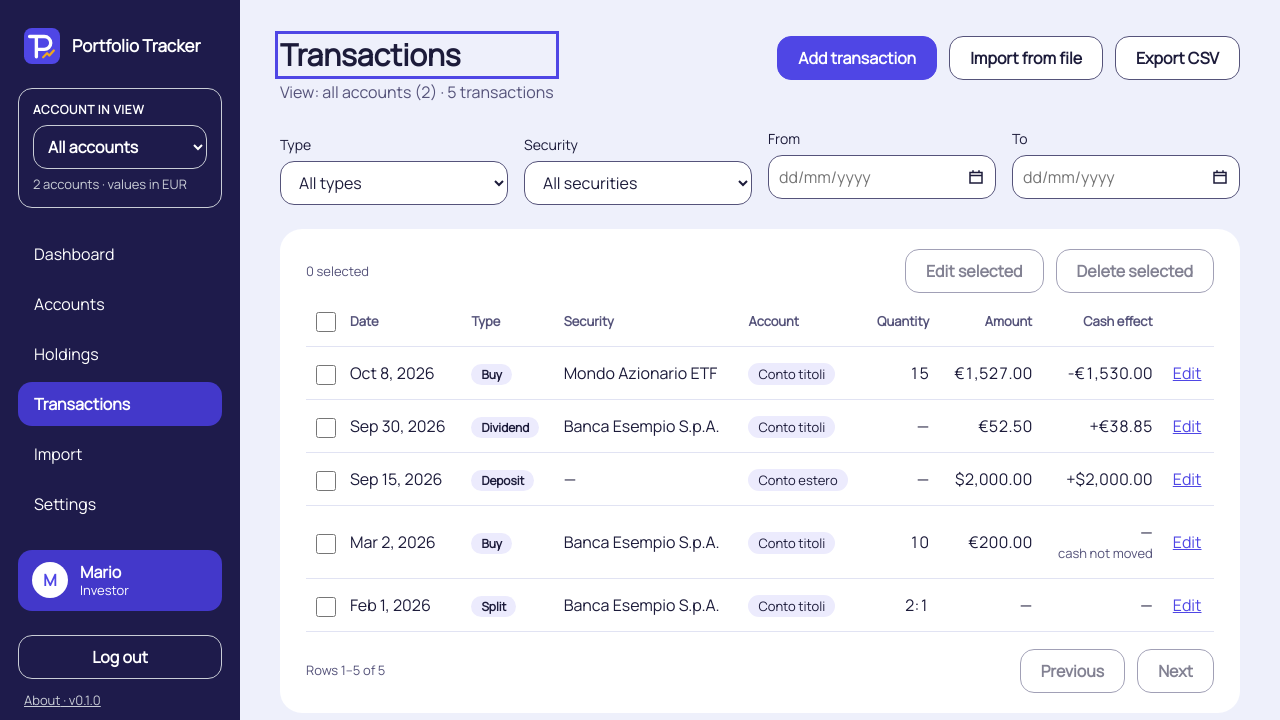
Test: transactions list › keeps the filters in the URL and asks the API with them
Expected: the text "View: all accounts (2) · 5 transactions" is shown, [280, 80, 554, 104]
Select "Buy" in the dropdown labelled "Type" at (394,182), box [280, 160, 508, 204]
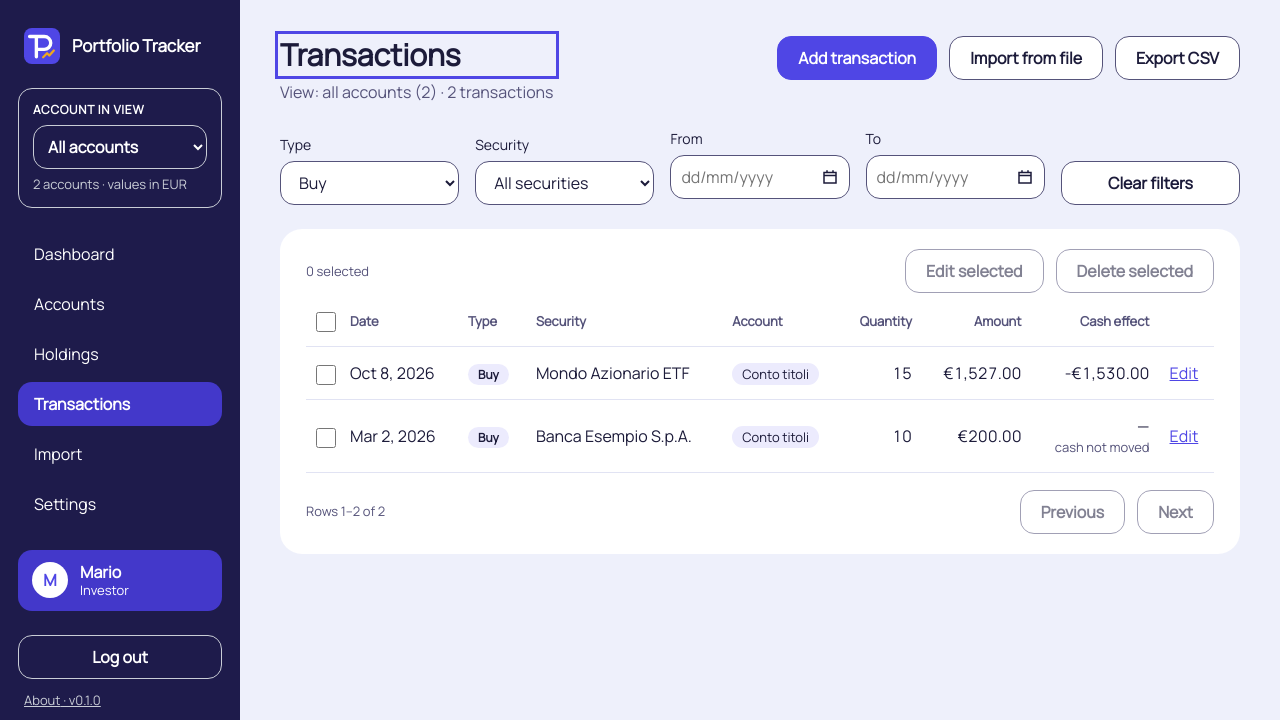
Result: the text "View: all accounts (2) · 2 transactions" is shown at [280, 80, 554, 104]
Select "Banca Esempio S.p.A." in the dropdown labelled "Security" at (565,182), box [475, 160, 654, 204]
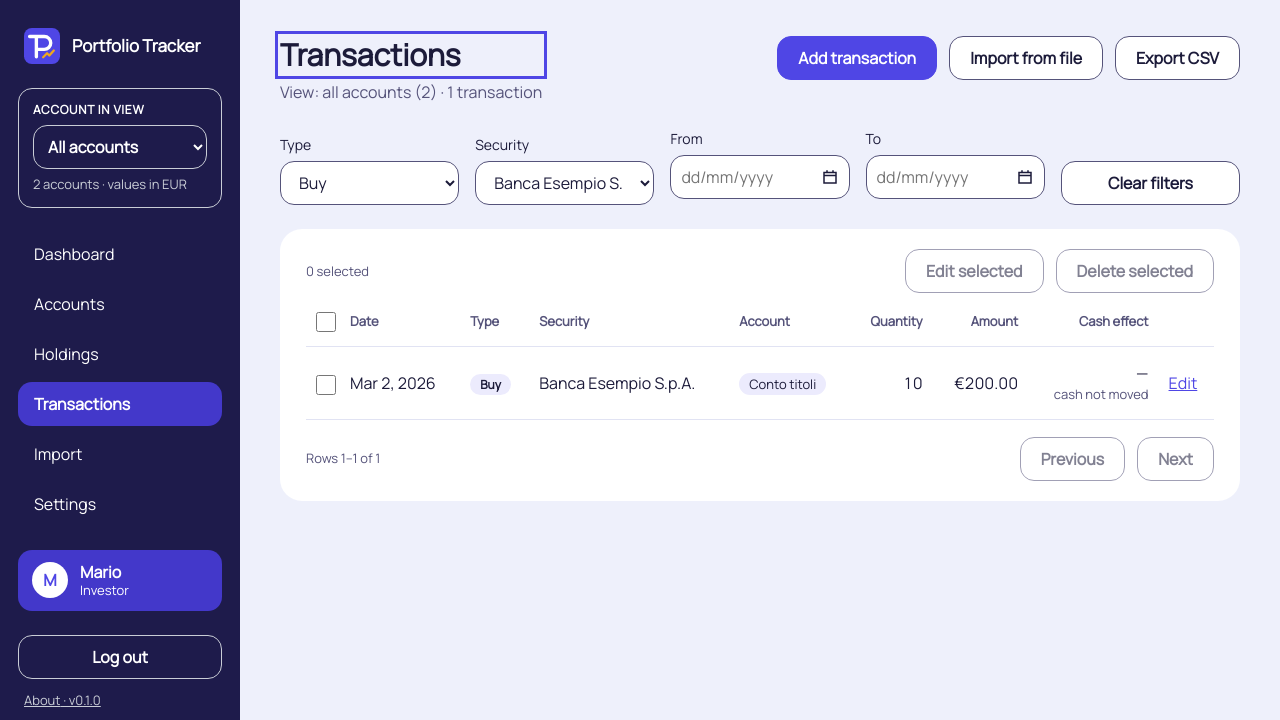
Result: the text "View: all accounts (2) · 1 transaction" is shown at [280, 80, 542, 104]
Type "01/01/2026" into the field labelled "From".
click(760, 176); type("01/01/2026")  # box [670, 154, 850, 198]
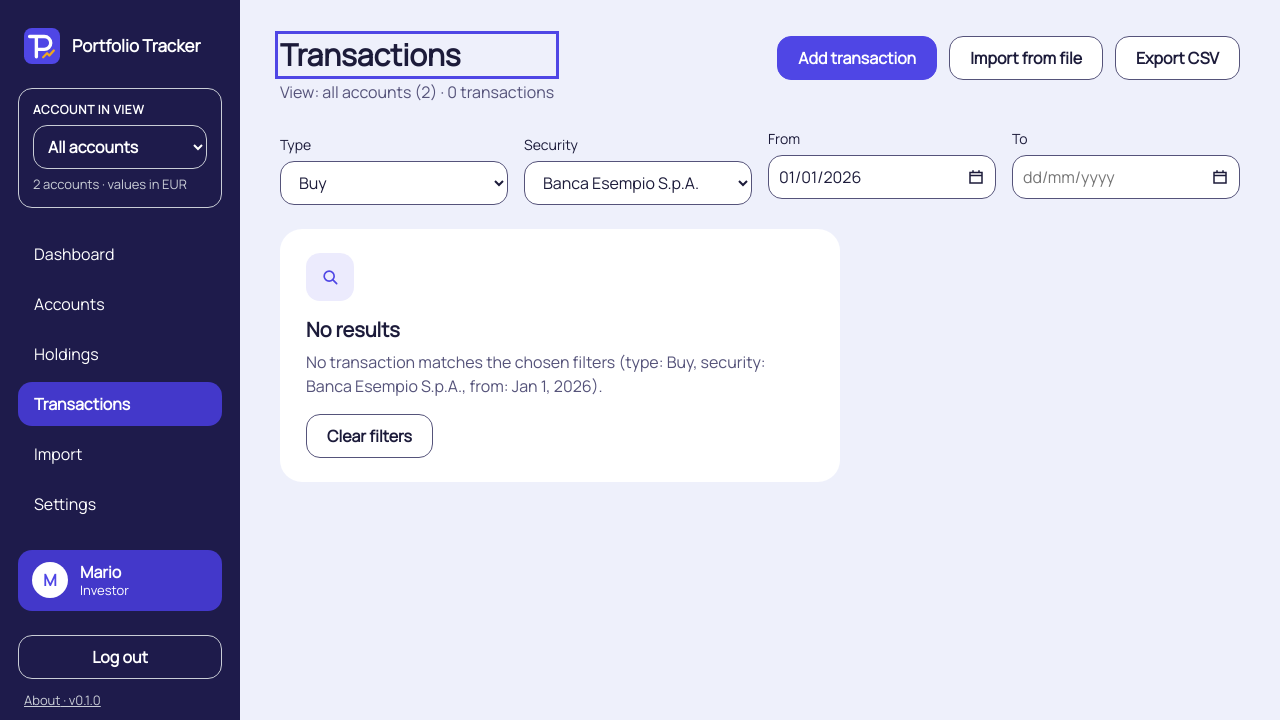
Result: the heading "No results" is shown at [306, 316, 400, 342]
Type "31/02/2026" into the field labelled "To".
click(1126, 176); type("31/02/2026")  # box [1012, 154, 1240, 198]
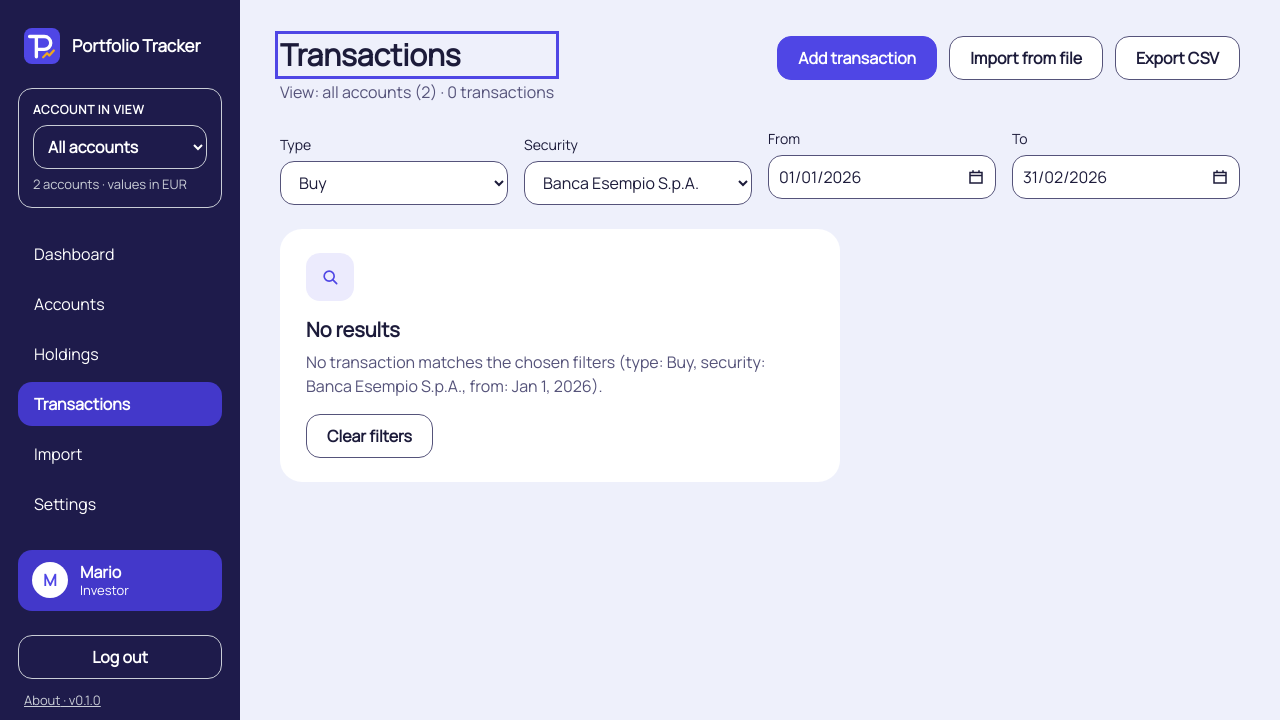
Leave the field labelled "To", box [1012, 154, 1240, 198]
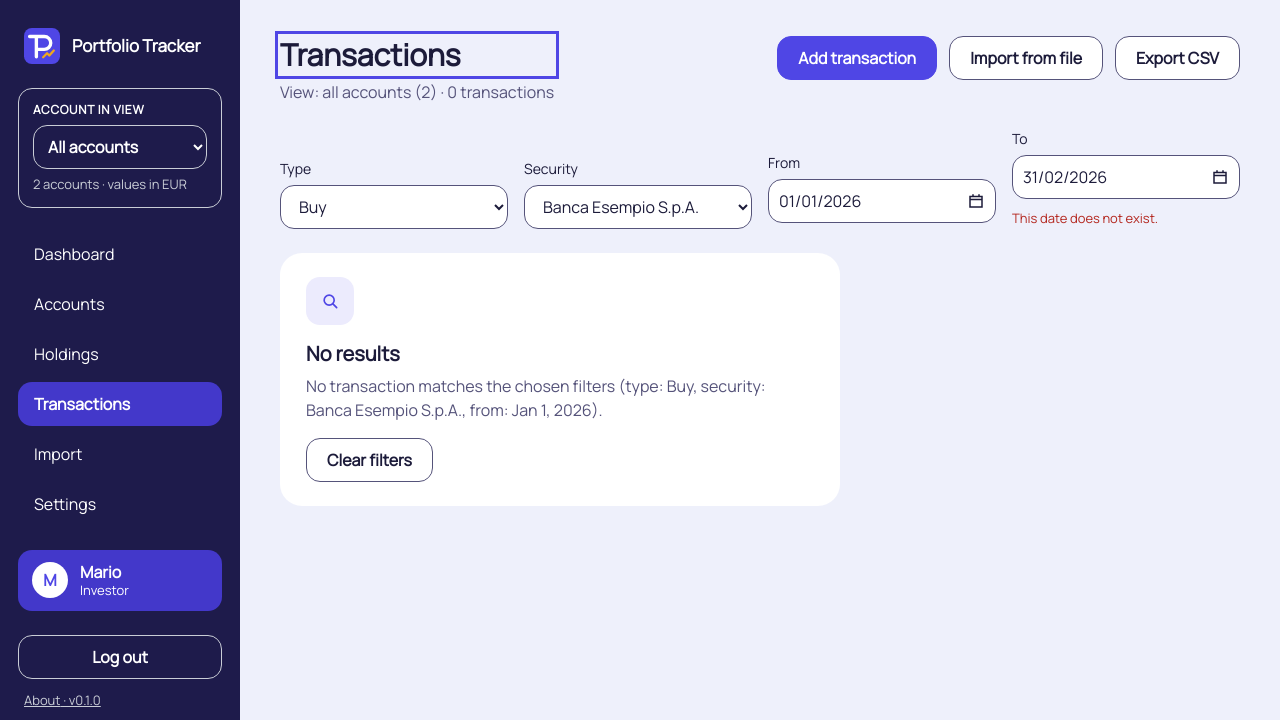
Result: the text "This date does not exist." is shown at [1012, 208, 1158, 226]
Click the button "Clear filters".
click(369, 460)  # box [306, 438, 433, 482]
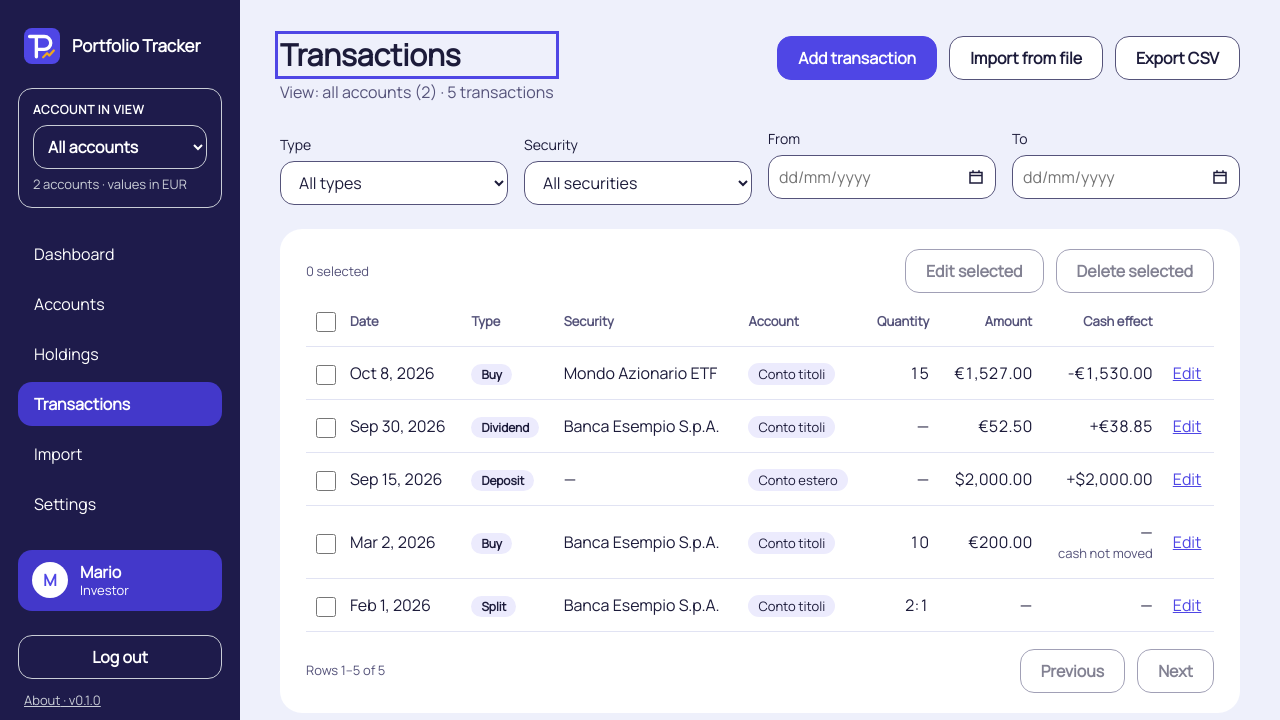
Result: the text "View: all accounts (2) · 5 transactions" is shown at [280, 80, 554, 104]
Result: the field labelled "From" is empty at [768, 154, 996, 198]
Result: the field labelled "To" is empty at [1012, 154, 1240, 198]
